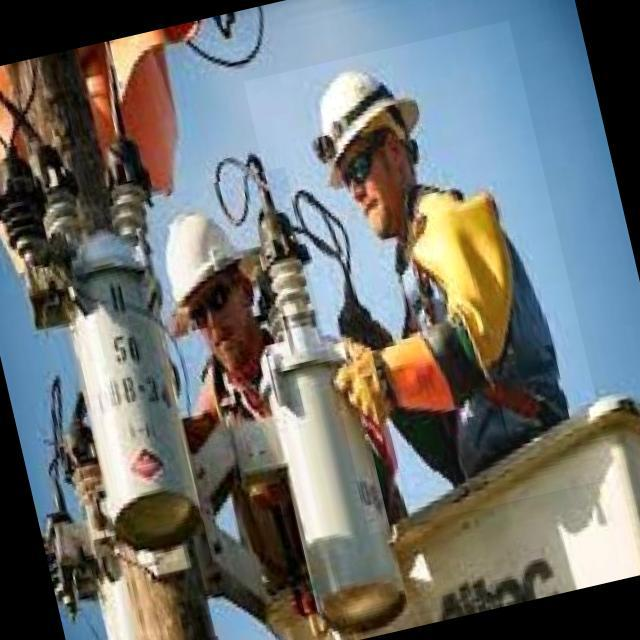Gloves: (323, 328, 464, 432), (70, 449, 119, 529)
Helmet: (293, 51, 439, 193), (146, 188, 274, 321)
Person: (63, 29, 598, 580)
Safety Vest: (367, 170, 581, 465)
